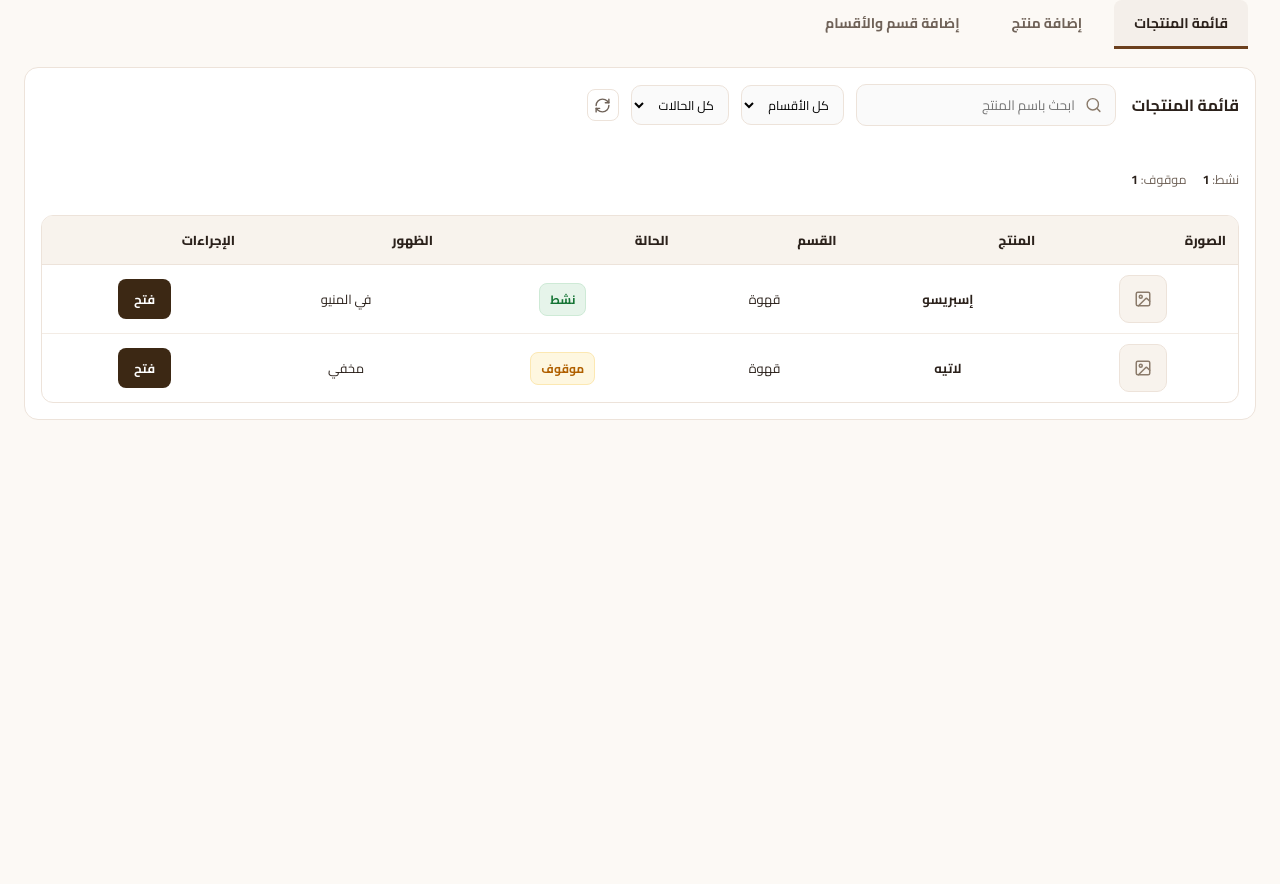
Test case: products page on the v1 layer › opens product details with server cost preview and recipe
This screenshot has width=1280, height=884.
Click the button "فتح" in the row of "إسبريسو". click: (145, 299)
box: [118,279,171,319]
(page scrolled)
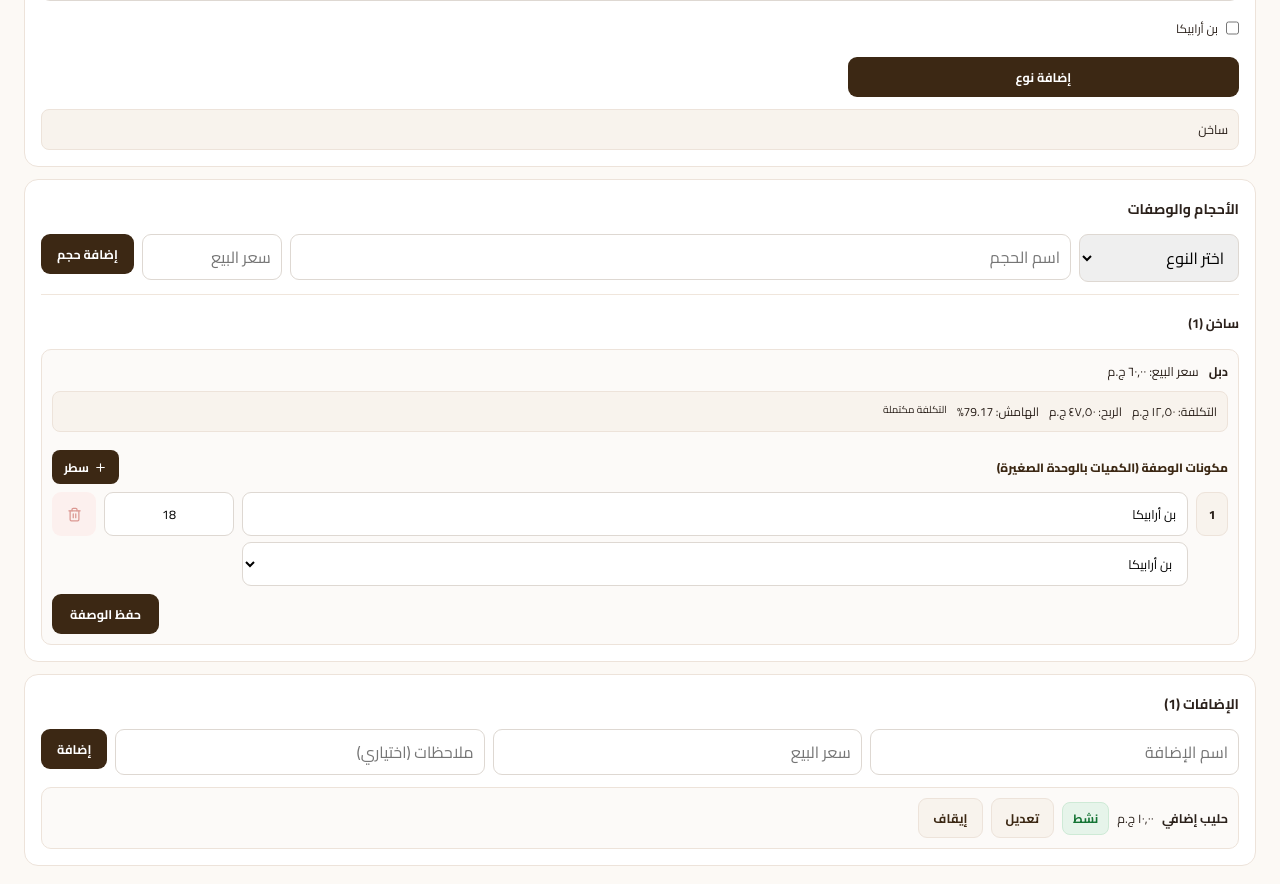
Result: the text "دبل" is shown at [1209,360,1228,383]
Result: the text "حليب إضافي" is shown at [1162,806,1228,830]
